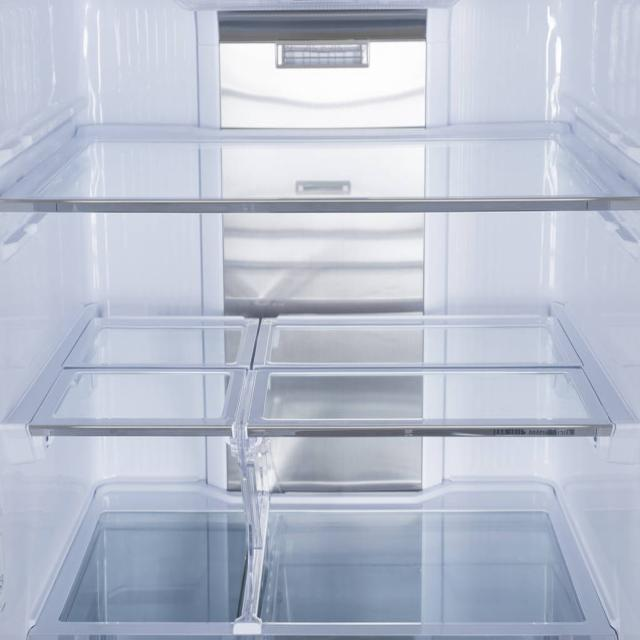fridge-space: (1, 288, 612, 423), (46, 475, 582, 624), (1, 82, 633, 194)
